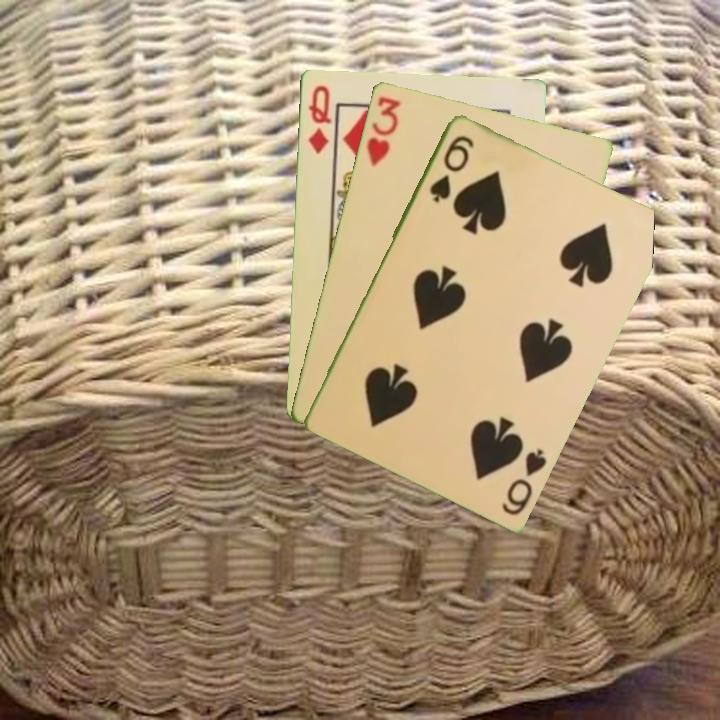3h: (362, 92, 403, 169)
6s: (425, 131, 477, 205), (497, 444, 549, 518)
Qd: (304, 81, 334, 156)
